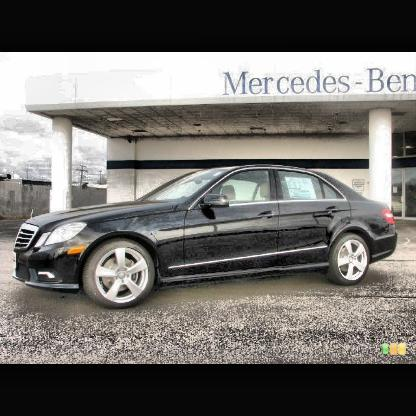Mercedes-Benz E-Class Sedan 2012: (9, 163, 399, 309)
